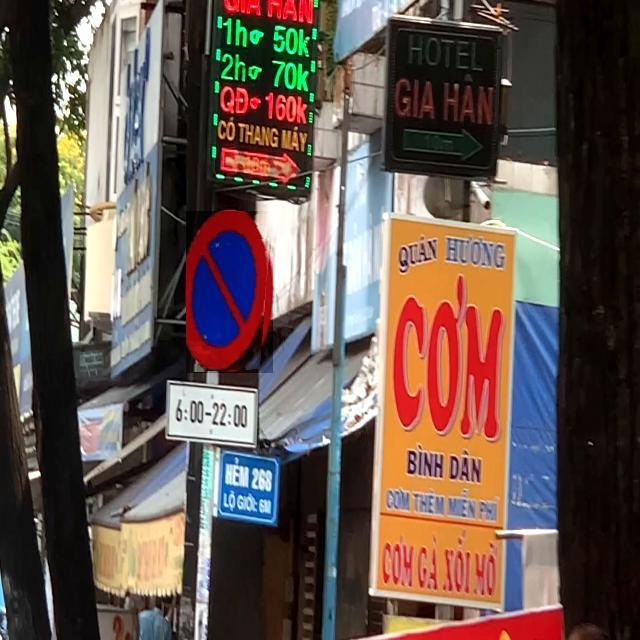P-131a: (186, 211, 273, 373)
